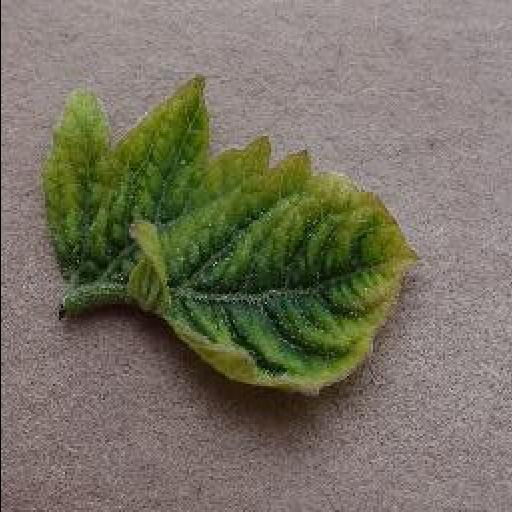disease_tomato: (35, 70, 421, 392)
